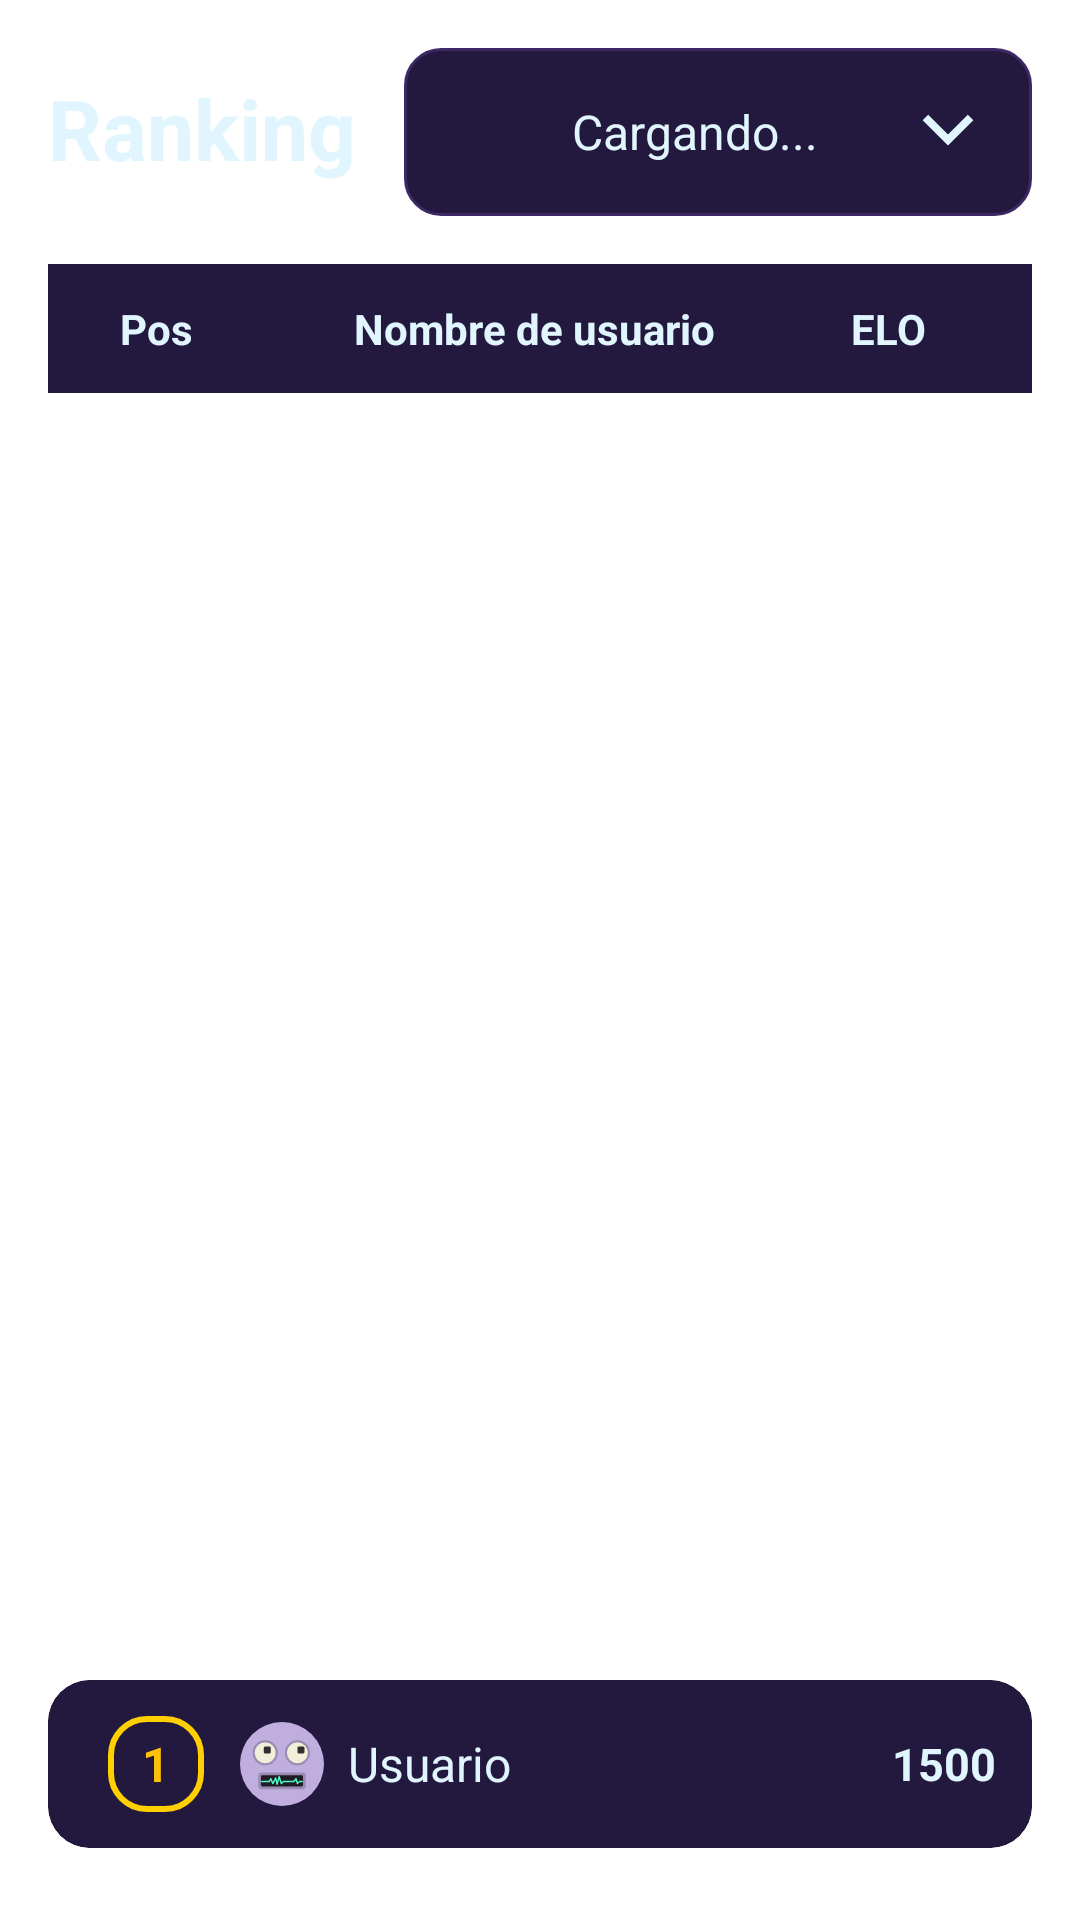

Named icons in this screenshot (1080 x 1920) and their bounding boxes, bbox(x1, y1, x2, y2):
arrow down: bbox(922, 115, 974, 146)
Avatar: bbox(240, 1722, 324, 1806)
